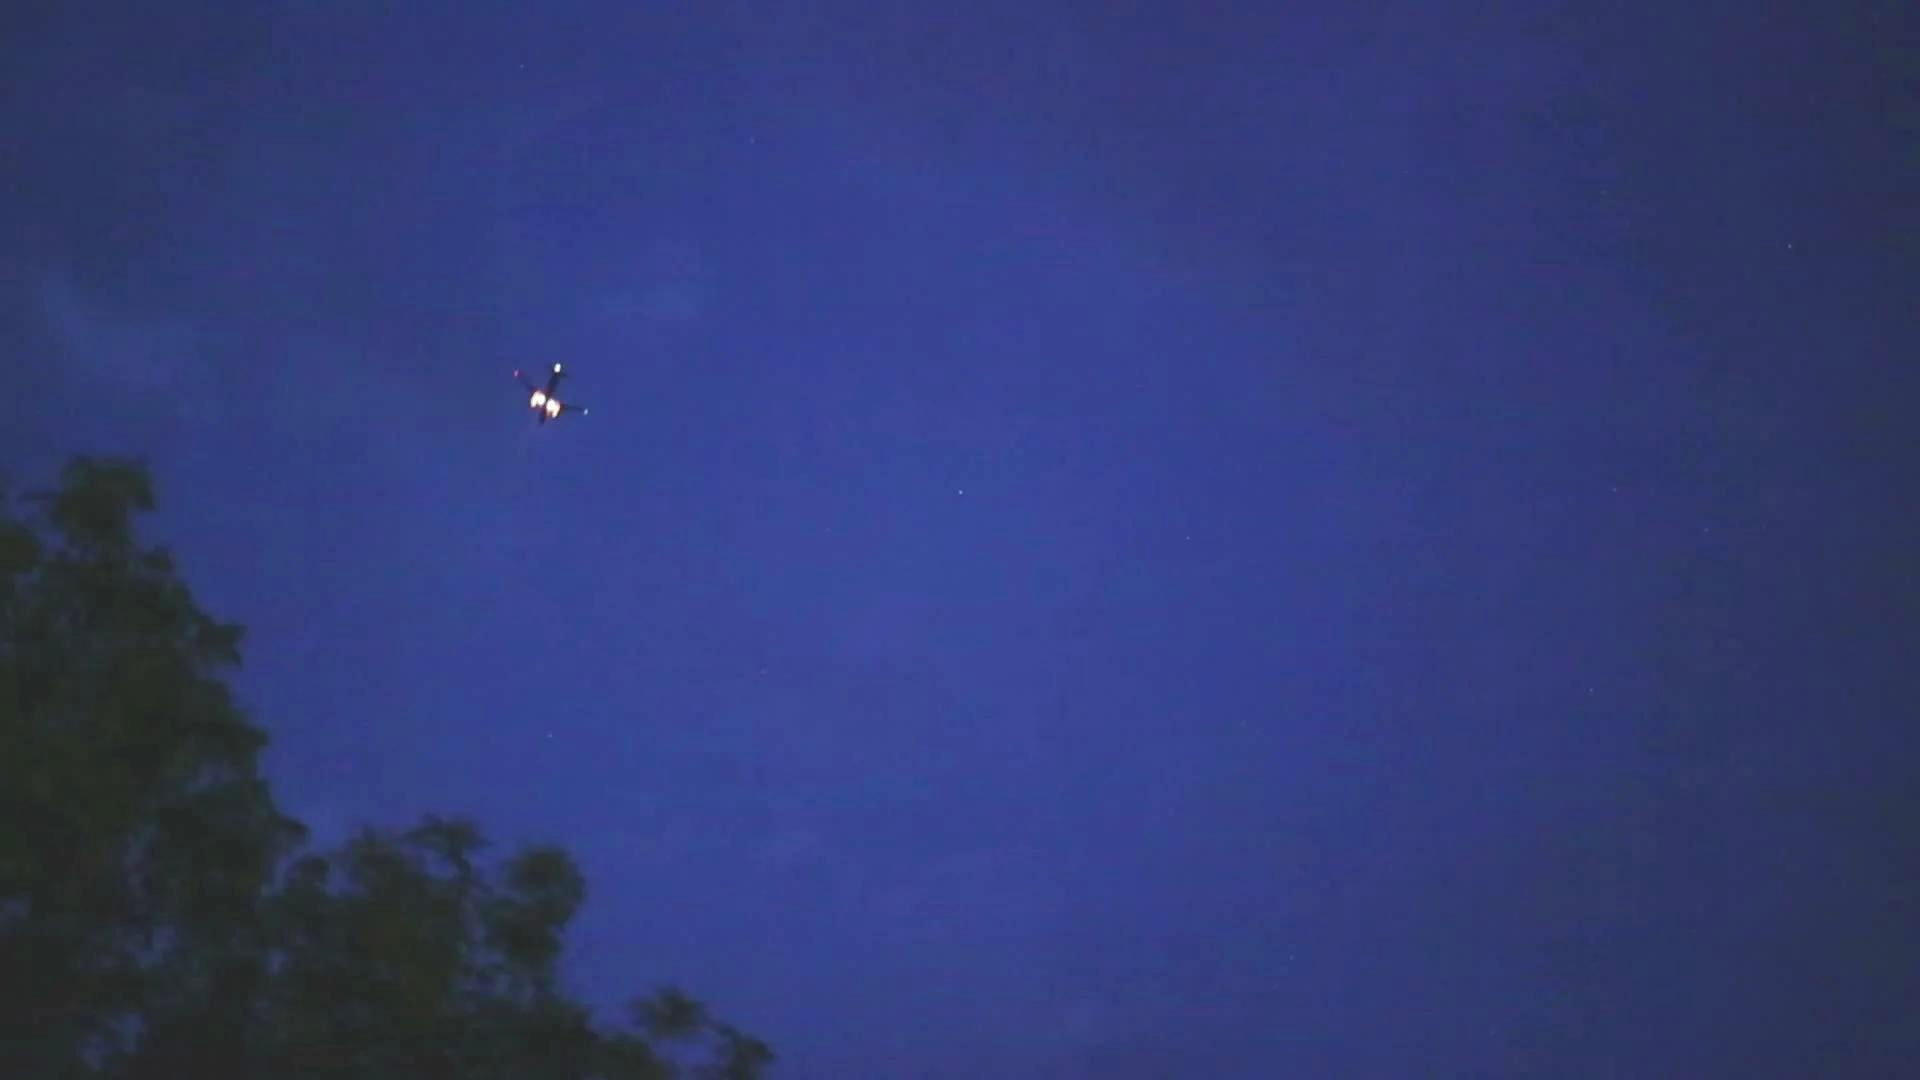Plane: (493, 345, 604, 442)
